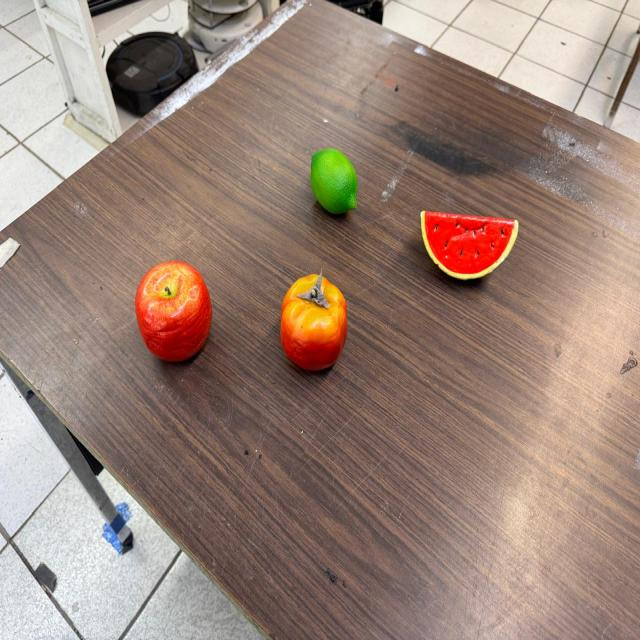apple: (135, 259, 213, 362)
lemon: (310, 149, 358, 214)
tomato: (280, 270, 348, 372)
watermelon: (420, 211, 519, 281)
